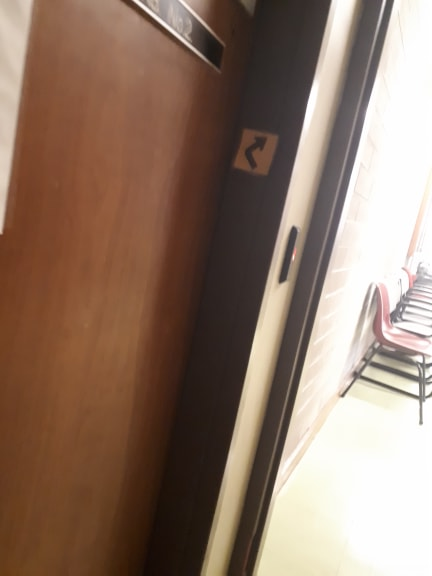right: (236, 125, 277, 174), (233, 132, 273, 152), (247, 130, 272, 148)
